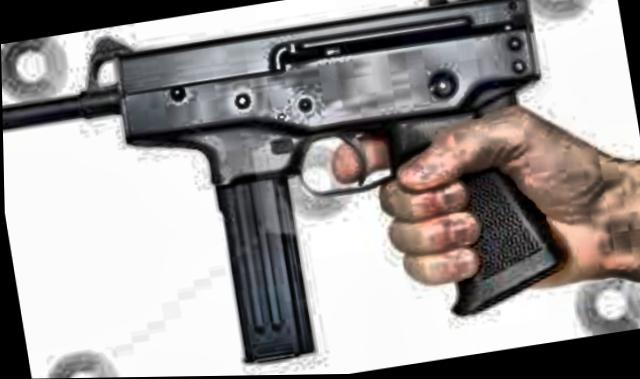pistol: (69, 0, 597, 378)
